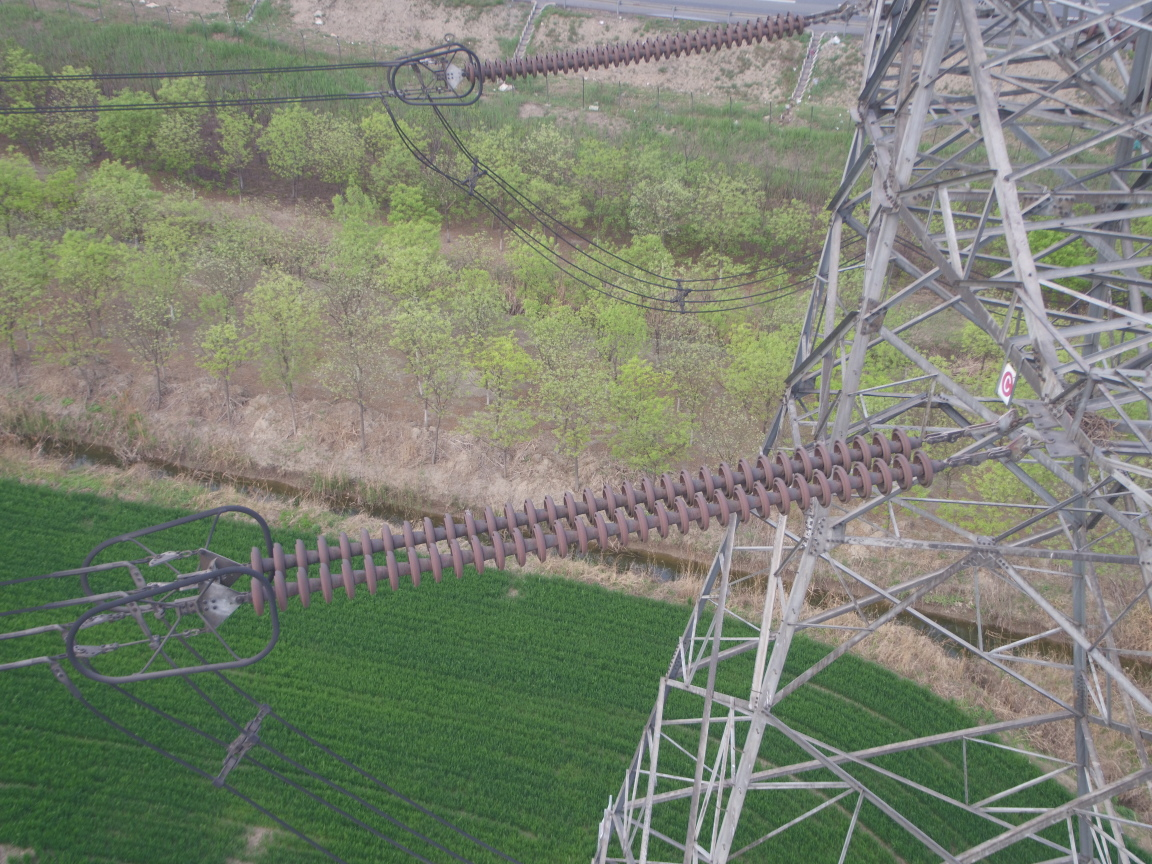insulator: (231, 424, 965, 619), (458, 9, 825, 87)
